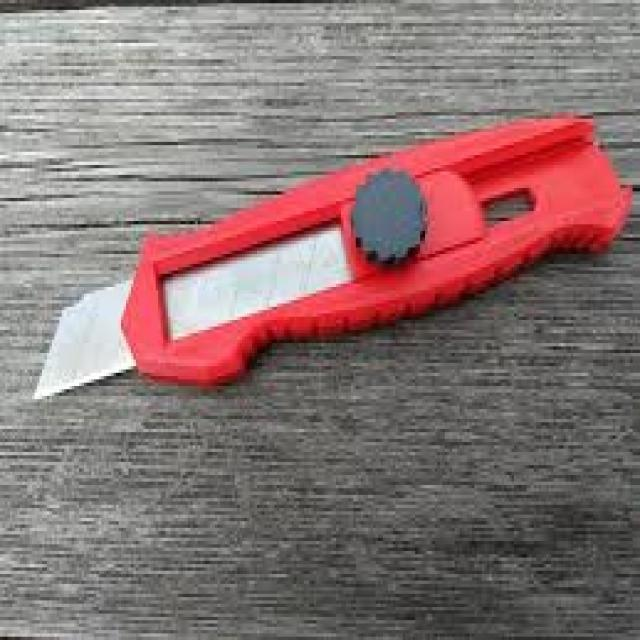cutter: (29, 102, 640, 395)
